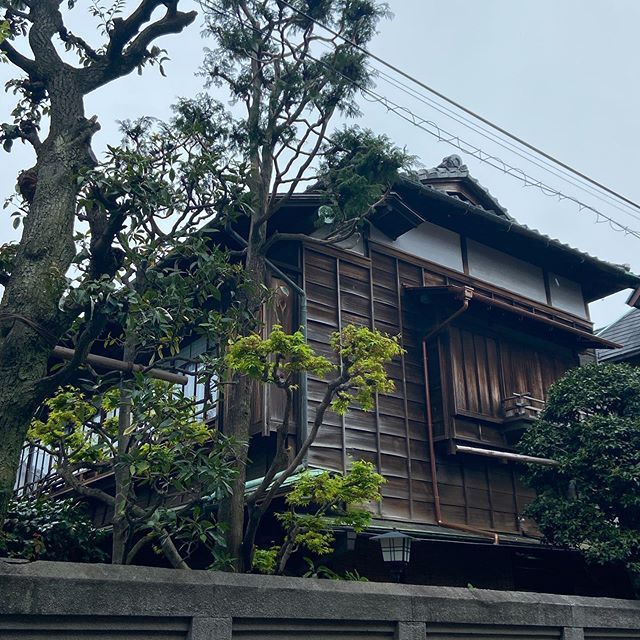building: (12, 169, 597, 589)
sky: (391, 1, 640, 167)
tree: (54, 10, 403, 576)
